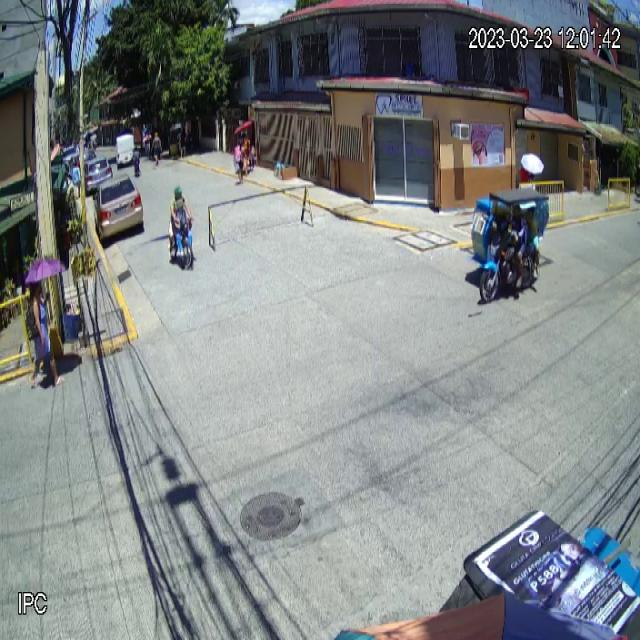Car: (92, 172, 144, 242)
Tricycle: (467, 187, 551, 306)
